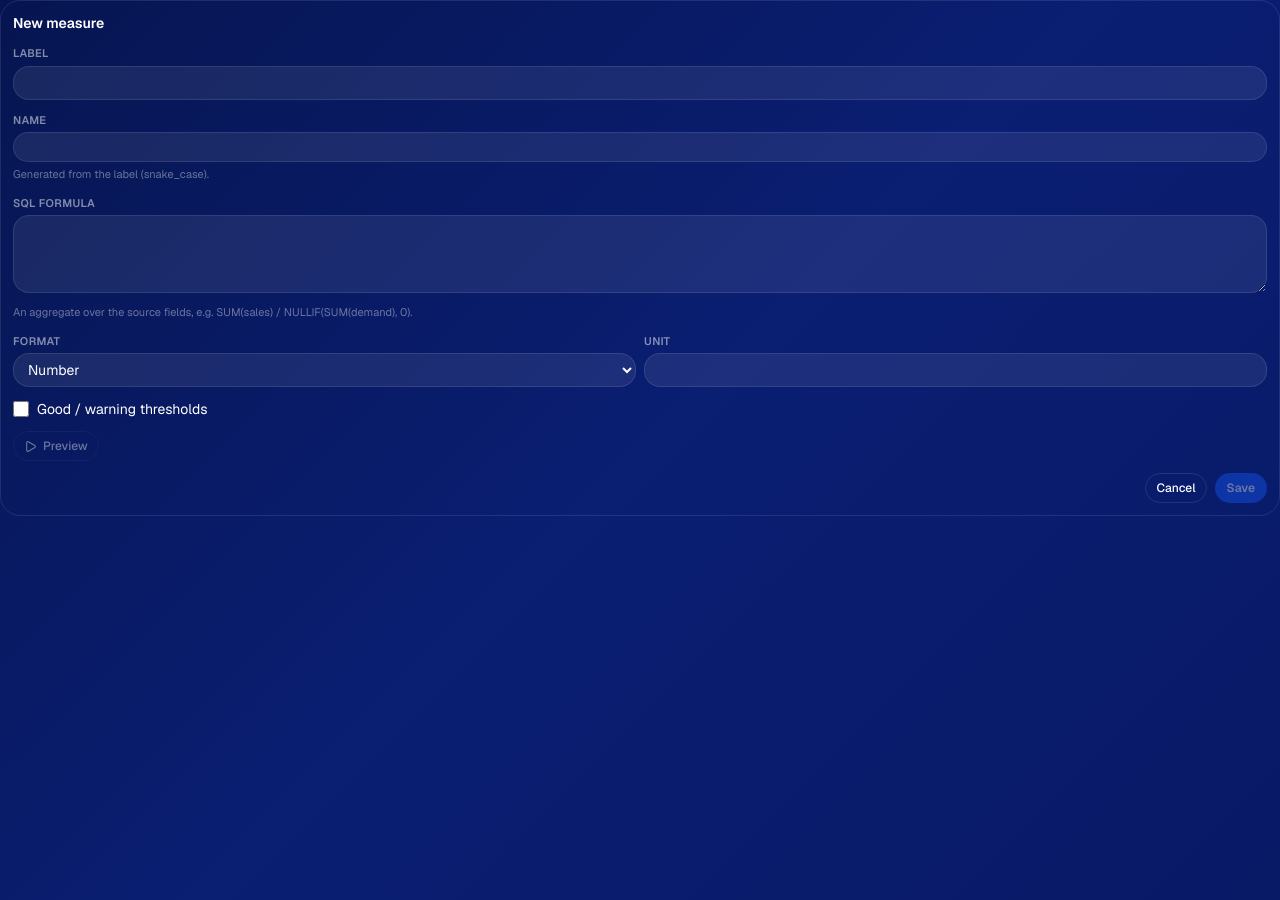
it: MeasureEditor › derives the snake_case name from the label until the name is edited
Type "Taux de service (%)" into the field labelled "Label".
click(640, 82); type("Taux de service (%)")  # box [13,66,1267,100]
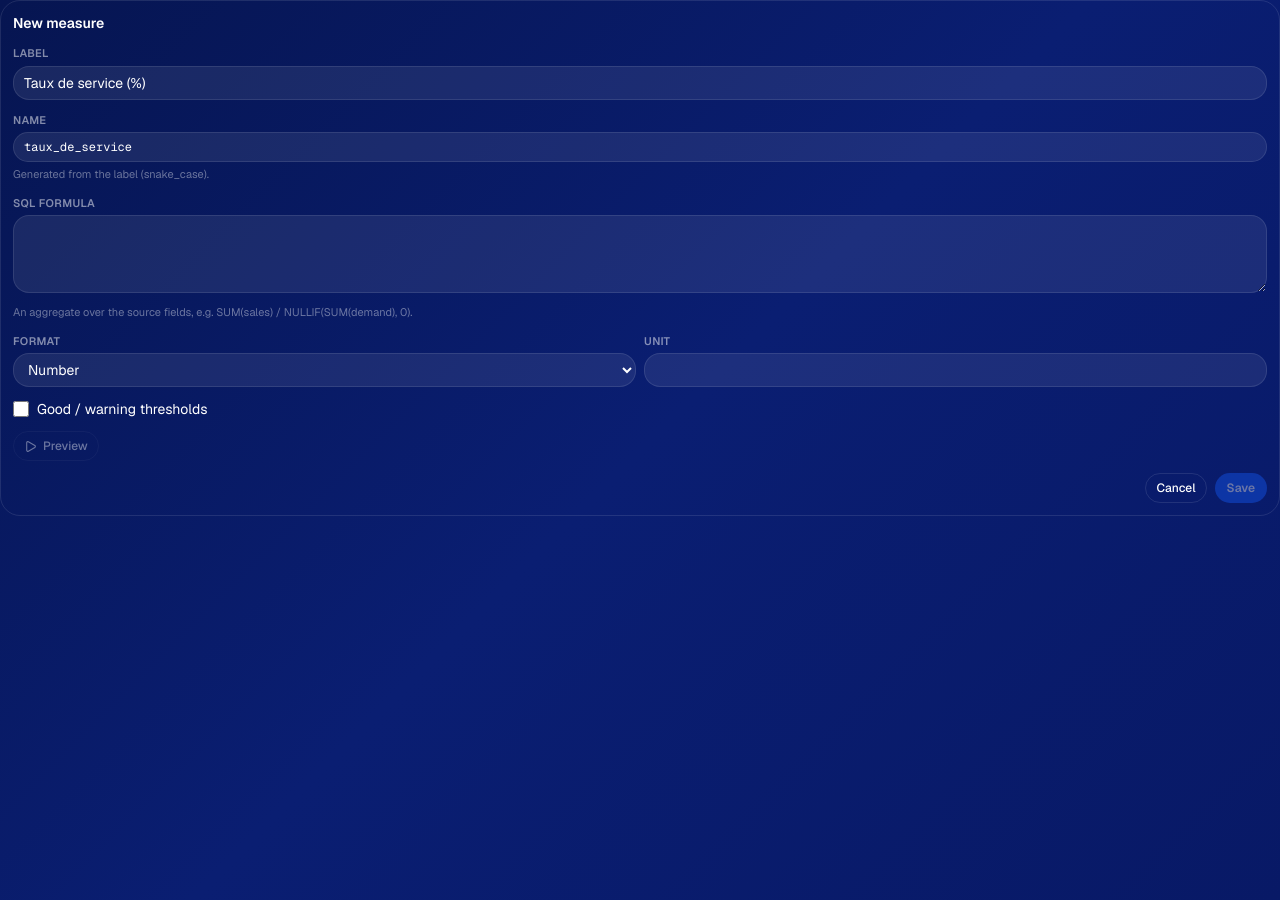
Result: the field labelled "Name" holds "taux_de_service" at [13,132,1267,162]
